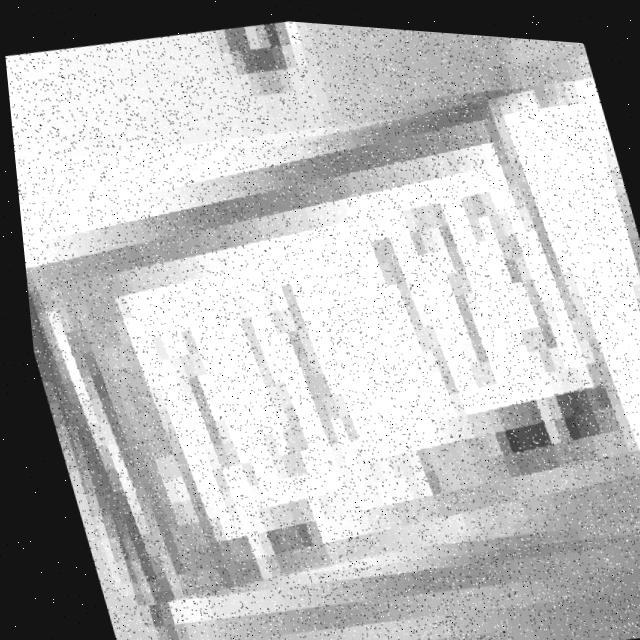LicensePlate: (4, 56, 640, 629)
